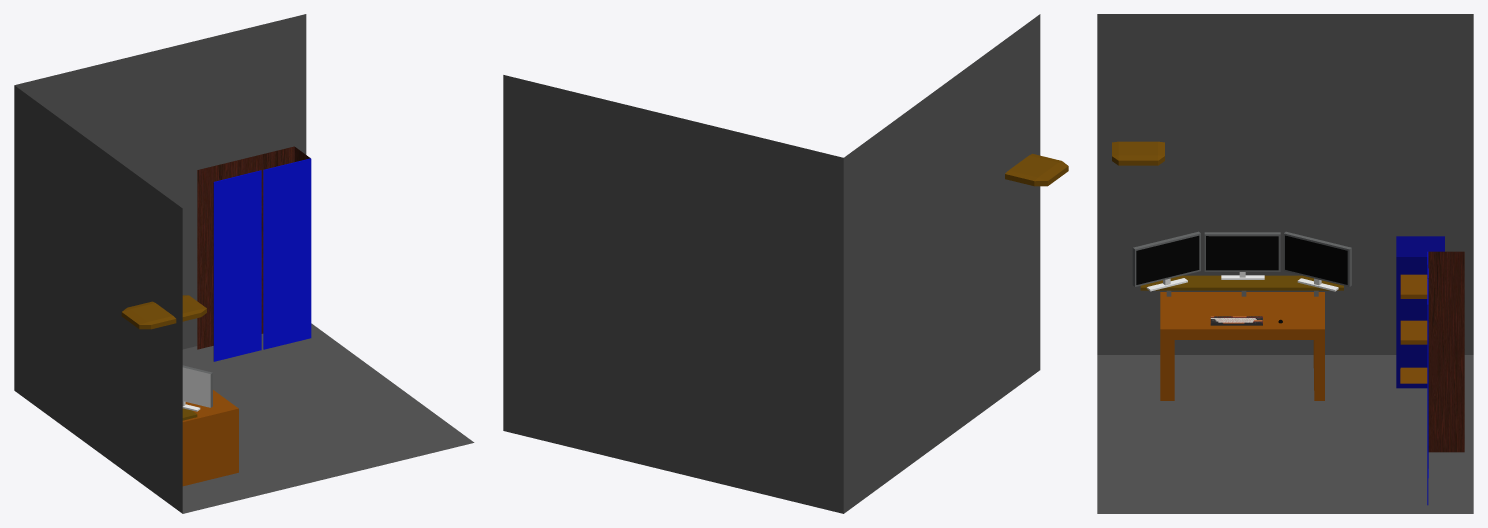
Rendered from threeJsScene.glb.
3 views of the same model, side by side, from view 1: azimuth 30°, elevation 25°; view 2: azimuth 150°, elevation 25°; view 3: azimuth 270°, elevation 25° (orthographic). The views are drawn at different scales.
Parts seen in each view (by area): view 1: Cube, RightDoor, LeftDoor, MainBody, Plane.001, Cube.001, Monitor 1; view 2: Cube, Cube.001; view 3: Cube, Plane.001, MainBody, Experience and projects.003, Monitor 2, Monitor 3, Monitor 1, Cube.001, Cube.008, LeftDoor.
Part boxes in pixels (left/top/right/bottom): Cube: left=14, top=14, right=474, bottom=513; RightDoor: left=213, top=170, right=261, bottom=361; LeftDoor: left=263, top=158, right=311, bottom=349; MainBody: left=197, top=146, right=310, bottom=349; Plane.001: left=182, top=390, right=238, bottom=486; Cube.001: left=121, top=295, right=206, bottom=329; Monitor 1: left=182, top=365, right=212, bottom=411; Cube: left=503, top=14, right=1040, bottom=513; Cube.001: left=1005, top=153, right=1068, bottom=186; Cube: left=1097, top=14, right=1473, bottom=513; Plane.001: left=1140, top=275, right=1343, bottom=400; MainBody: left=1428, top=251, right=1464, bottom=452; Experience and projects.003: left=1396, top=236, right=1444, bottom=388; Monitor 2: left=1204, top=232, right=1280, bottom=279; Monitor 3: left=1283, top=231, right=1351, bottom=291; Monitor 1: left=1132, top=231, right=1200, bottom=291; Cube.001: left=1112, top=141, right=1164, bottom=165; Cube.008: left=1210, top=316, right=1262, bottom=325; LeftDoor: left=1427, top=278, right=1428, bottom=505.
Bounding box in the file's own units: 180 × 161 × 161.
5 materials, 3 textured.
